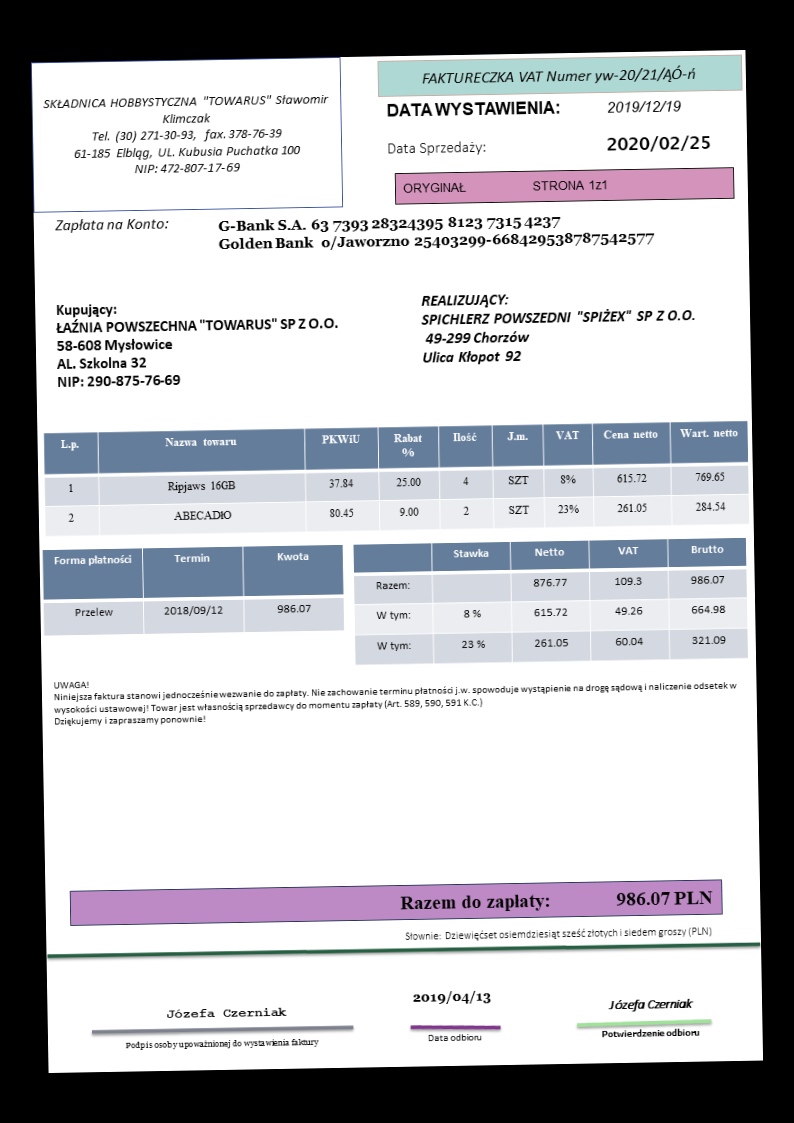Table: (42, 417, 749, 539), (353, 536, 751, 667), (41, 543, 344, 638)
TextBox: (51, 665, 740, 730), (53, 295, 341, 390), (38, 89, 334, 179), (418, 286, 699, 368), (215, 207, 657, 257), (397, 885, 714, 915), (417, 61, 700, 90), (402, 922, 716, 945), (399, 174, 612, 197), (384, 95, 563, 121), (123, 1034, 321, 1052), (604, 130, 713, 154), (385, 136, 488, 159), (53, 213, 169, 233), (164, 1004, 288, 1021), (604, 993, 696, 1014), (603, 94, 685, 117), (409, 987, 492, 1009), (599, 1025, 703, 1042), (424, 1029, 485, 1044)
